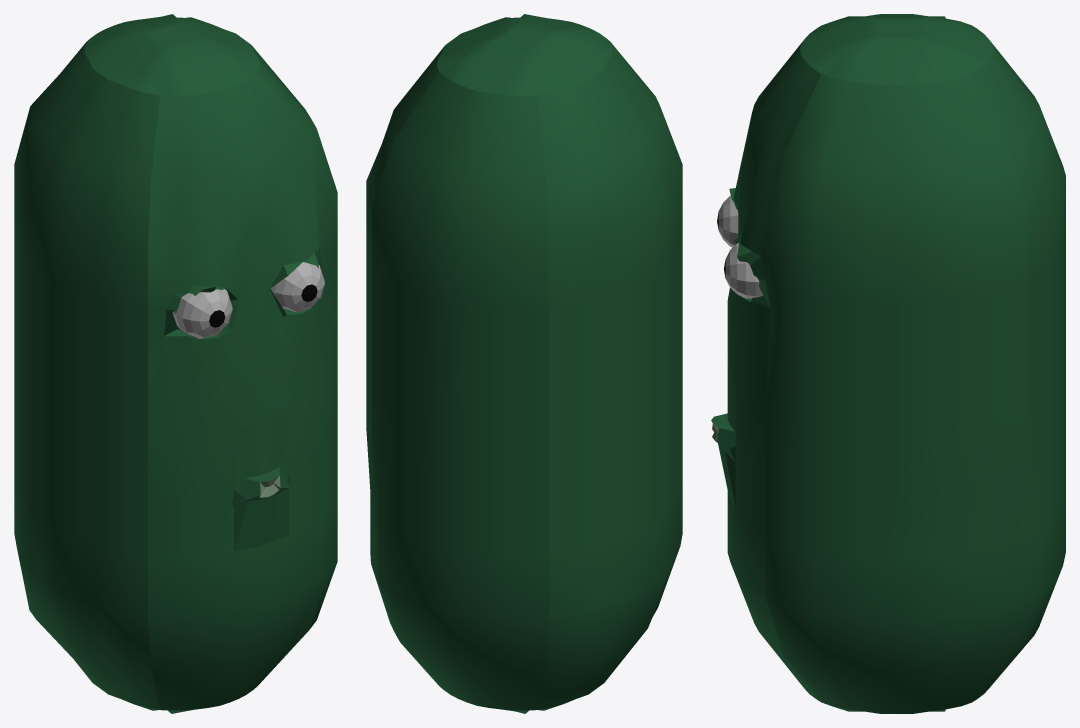
Rendered from seaCucumber_01.fbx.
The picture shows the model from 3 angles, left to right: view 1: azimuth 30°, elevation 25°; view 2: azimuth 150°, elevation 25°; view 3: azimuth 270°, elevation 25°; orthographic projection. The views are drawn at different scales.
Visible parts, largest first — view 1: sea_cucumber, left_eye, right_eye; view 2: sea_cucumber; view 3: sea_cucumber, right_eye, left_eye.
Part boxes in pixels (x1=…): sea_cucumber: x1=14, y1=14, x2=337, y2=713; left_eye: x1=172, y1=289, x2=232, y2=338; right_eye: x1=270, y1=262, x2=324, y2=312; sea_cucumber: x1=366, y1=14, x2=682, y2=713; sea_cucumber: x1=711, y1=14, x2=1065, y2=713; right_eye: x1=724, y1=243, x2=762, y2=298; left_eye: x1=717, y1=196, x2=738, y2=247.
Size of the model in its own units: 5.9 by 14.18 by 6.8.
